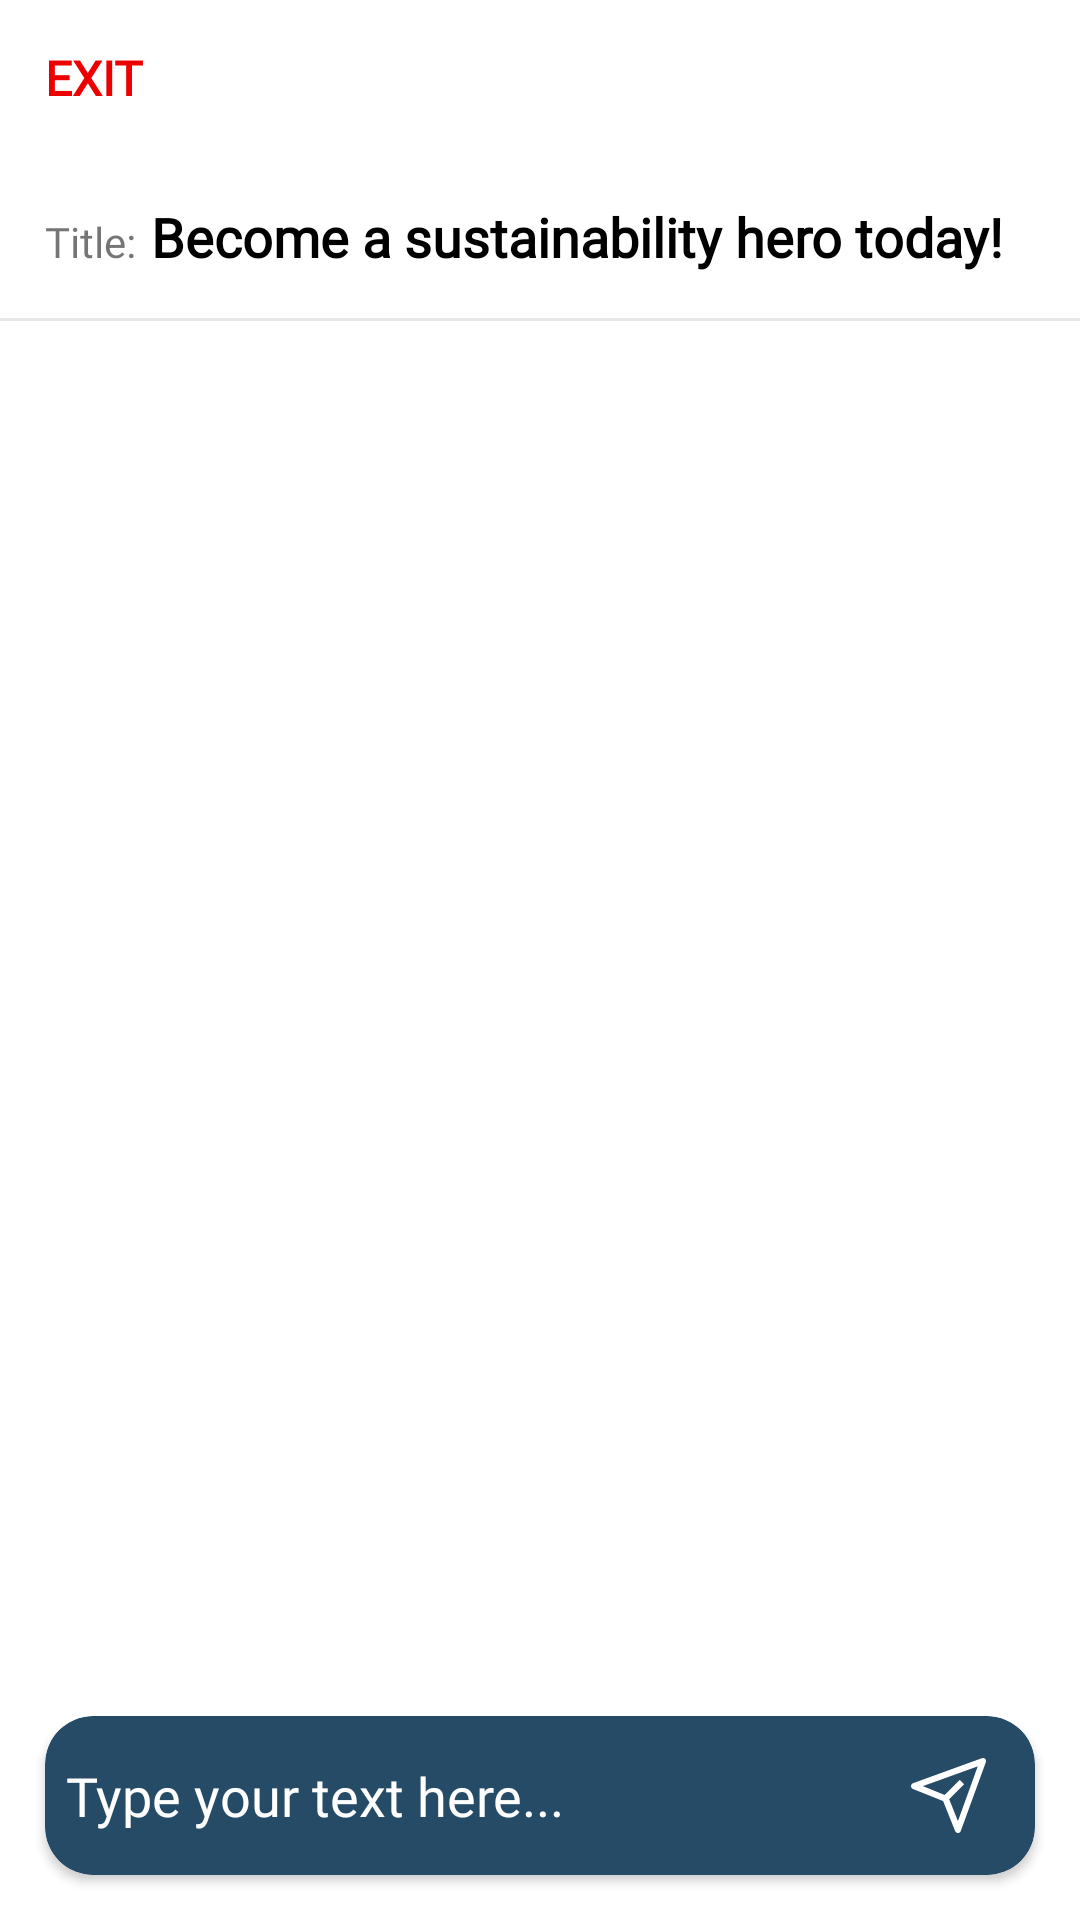

Icon bounding boxes for this 1080px x 1920px phone screenshot, format (x1, y1, x2, y2):
send: (911, 1758, 986, 1833)
